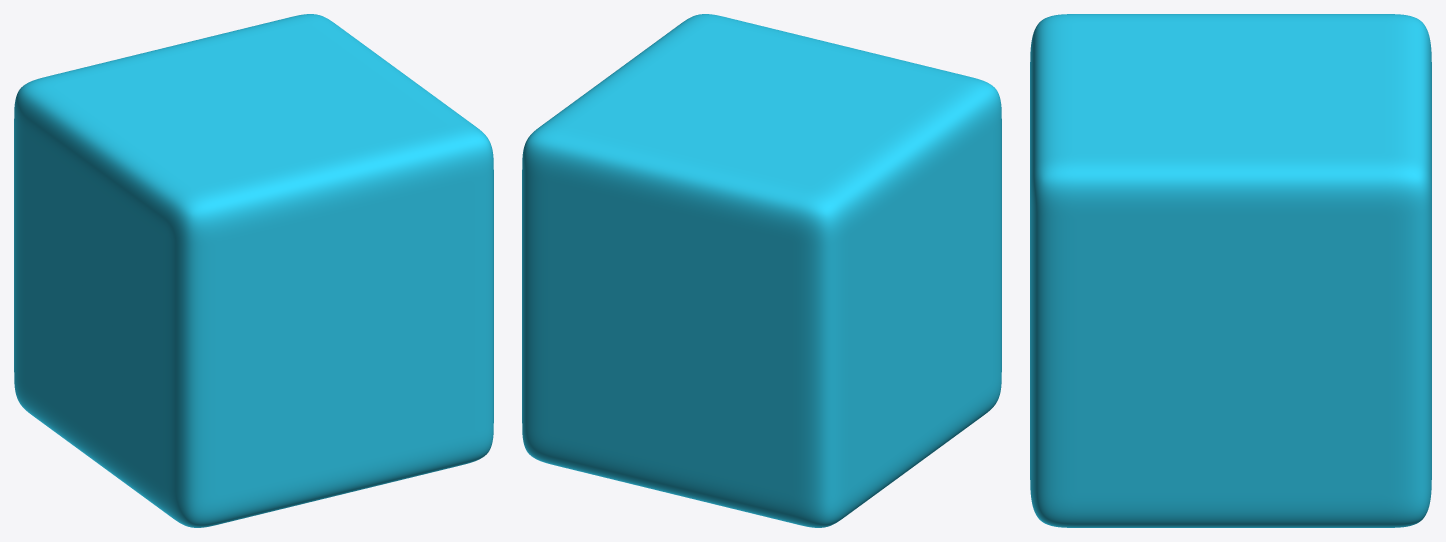
File: modeloGelatina.fbx
3 renders of one model, left to right at view 1: azimuth 30°, elevation 25°; view 2: azimuth 150°, elevation 25°; view 3: azimuth 270°, elevation 25°, orthographic. The views are drawn at different scales.
Visible parts, largest first — view 1: Cubo; view 2: Cubo; view 3: Cubo.
Boxes of the visible parts, x1,y1,x2,y2 form: Cubo: [14, 14, 493, 527]; Cubo: [522, 14, 1001, 527]; Cubo: [1030, 14, 1431, 527].
Size of the model in its own units: 200 by 200 by 200.
